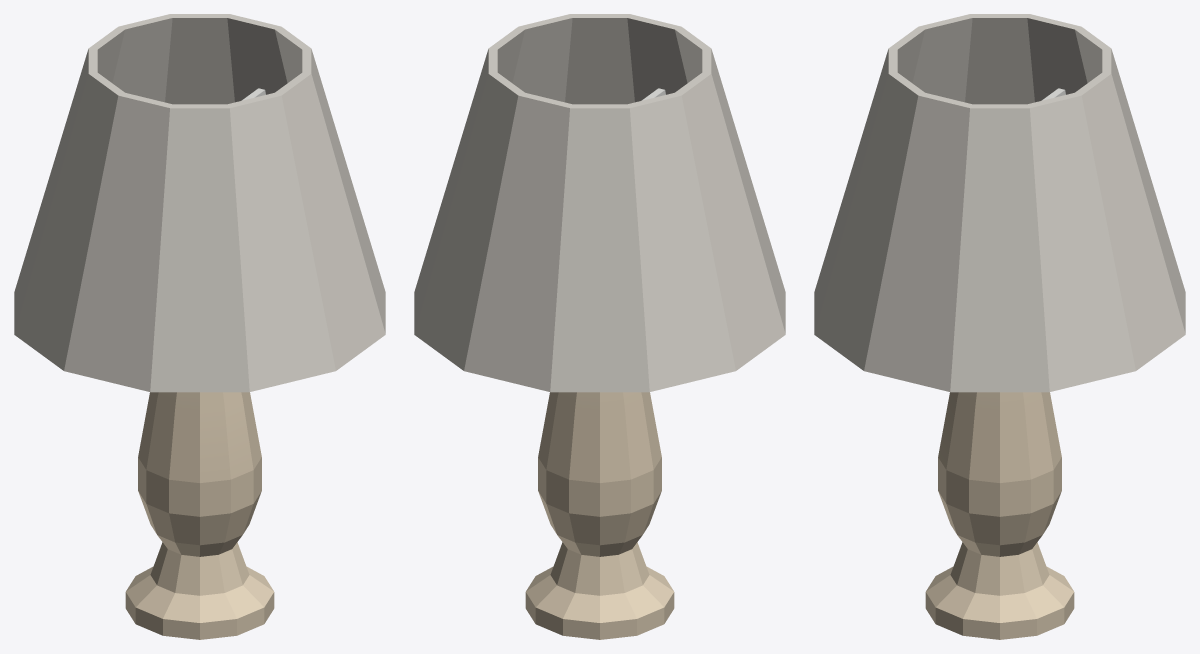
File: Prop_Misc_Lamp.fbx
3 renders of one model, left to right at view 1: azimuth 30°, elevation 25°; view 2: azimuth 150°, elevation 25°; view 3: azimuth 270°, elevation 25°, orthographic.
Visible parts, largest first — view 1: object4.015, object5.010; view 2: object4.015, object5.010; view 3: object4.015, object5.010.
Boxes of the visible parts, bbox=[...] form: object4.015: bbox=[14, 14, 385, 392]; object5.010: bbox=[125, 392, 274, 639]; object4.015: bbox=[414, 14, 785, 392]; object5.010: bbox=[525, 392, 674, 639]; object4.015: bbox=[814, 14, 1185, 392]; object5.010: bbox=[925, 392, 1074, 639].
Bounding box in the file's own units: 50 × 81.28 × 50.
